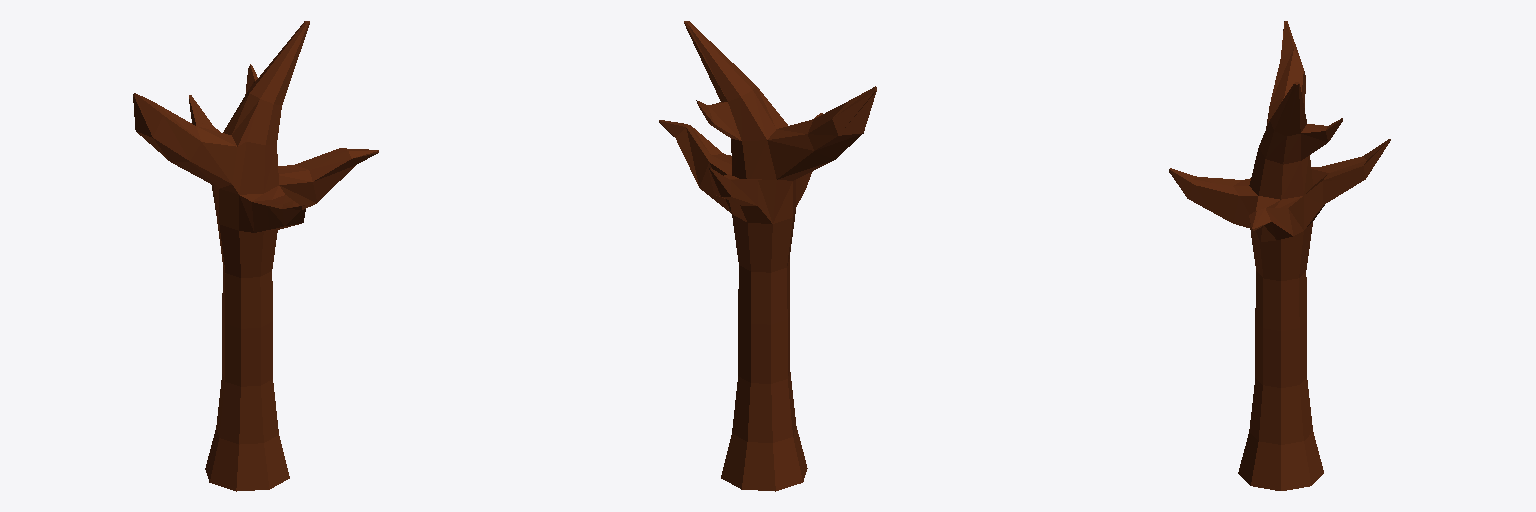
robot.urdf — tree:
<?xml version="1.0" ?>
<robot name="tree">
  <link name="baseLink">
    <inertial>
      <mass value="0.0"/>
      <inertia ixx="0" ixy="0" ixz="0" iyy="0" iyz="0" izz="0"/>
    </inertial>
    <visual>
      <origin rpy="0 0 0" xyz="0 0 0.0"/> 
      <geometry>
        <mesh filename="tree.obj" scale="1 1 1"/>
      </geometry>
      <material name="brown">
        <color rgba="0.4 0.2 0.1 1.0"/>
      </material>
    </visual>
    
    <collision>
      <origin rpy="0 0 0" xyz="0 0 0.0"/> 
      <geometry>
        <mesh filename="tree.obj" scale="1 1 1"/>
        
        </geometry>
    </collision>
  </link>
</robot>

--- Render facts (derived) ---
Views: 3 orthographic renders of the robot side by side, from view 1: azimuth 30°, elevation 25°; view 2: azimuth 150°, elevation 25°; view 3: azimuth 270°, elevation 25°.
Robot: tree — 1 links, 0 joints (none); root link baseLink; default pose: all joints at 0.
Visible links, largest first — view 1: baseLink; view 2: baseLink; view 3: baseLink.
Boxes of the visible links, x1,y1,x2,y2 form: baseLink: [133, 21, 378, 491]; baseLink: [659, 21, 876, 491]; baseLink: [1169, 21, 1390, 490].
Size in the robot's own frame: 6.73 by 5.72 by 12.05 metres.
1 mesh visuals loaded from 1 distinct referenced files (1 OBJ).
